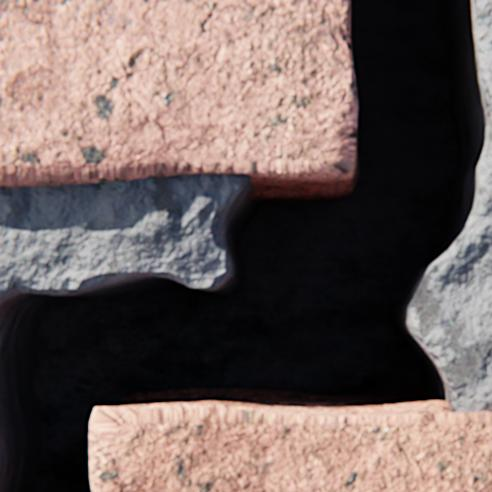brick: (0, 0, 357, 187), (90, 403, 491, 491)
crack: (0, 0, 491, 491)
